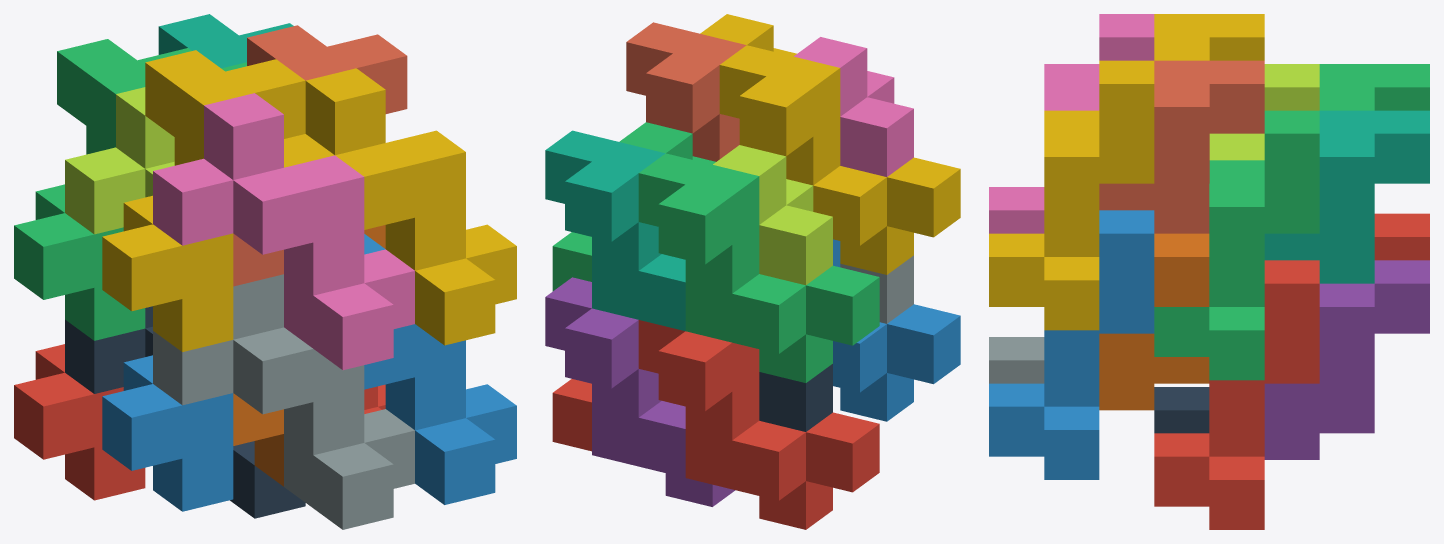
The model's file is tiling.obj.
3 renders of one model, left to right at view 1: azimuth 30°, elevation 25°; view 2: azimuth 150°, elevation 25°; view 3: azimuth 270°, elevation 25°, orthographic. The views are drawn at different scales.
Parts seen in each view (by area): view 1: copy_2_domain_4, copy_2_domain_2, copy_2_domain_8, copy_1_domain_4, copy_1_domain_3, copy_2_domain_6, copy_1_domain_2, copy_1_domain_1, copy_2_domain_3, copy_1_domain_8, copy_2_domain_1, copy_1_domain_7 (+1 smaller); view 2: copy_1_domain_3, copy_1_domain_1, copy_1_domain_4, copy_1_domain_7, copy_1_domain_5, copy_1_domain_8, copy_1_domain_2, copy_2_domain_4, copy_2_domain_3, copy_2_domain_1, copy_2_domain_7, copy_2_domain_5 (+2 smaller); view 3: copy_2_domain_8, copy_2_domain_7, copy_2_domain_5, copy_2_domain_6, copy_1_domain_5, copy_1_domain_8, copy_1_domain_7, copy_1_domain_6, copy_2_domain_4, copy_1_domain_3, copy_1_domain_4, copy_2_domain_3 (+3 smaller).
Boxes of the visible parts, bbox=[...] form: copy_2_domain_4: bbox=[153, 93, 414, 370]; copy_2_domain_2: bbox=[153, 274, 414, 529]; copy_2_domain_8: bbox=[284, 68, 516, 345]; copy_1_domain_4: bbox=[102, 50, 305, 351]; copy_1_domain_3: bbox=[14, 39, 191, 340]; copy_2_domain_6: bbox=[364, 234, 516, 504]; copy_1_domain_2: bbox=[102, 355, 233, 511]; copy_1_domain_1: bbox=[14, 344, 145, 500]; copy_2_domain_3: bbox=[65, 87, 174, 234]; copy_1_domain_8: bbox=[233, 25, 407, 286]; copy_2_domain_1: bbox=[65, 306, 305, 518]; copy_1_domain_7: bbox=[158, 14, 293, 68]; copy_1_domain_3: bbox=[638, 153, 879, 382]; copy_1_domain_1: bbox=[638, 320, 879, 529]; copy_1_domain_4: bbox=[719, 45, 960, 274]; copy_1_domain_7: bbox=[545, 130, 685, 331]; copy_1_domain_5: bbox=[545, 277, 735, 506]; copy_1_domain_8: bbox=[626, 22, 746, 161]; copy_1_domain_2: bbox=[833, 239, 960, 421]; copy_2_domain_4: bbox=[794, 37, 913, 176]; copy_2_domain_3: bbox=[713, 145, 832, 285]; copy_2_domain_1: bbox=[759, 364, 832, 431]; copy_2_domain_7: bbox=[552, 122, 715, 291]; copy_2_domain_5: bbox=[552, 379, 591, 451]; copy_2_domain_8: bbox=[989, 60, 1154, 330]; copy_2_domain_7: bbox=[1154, 110, 1319, 380]; copy_2_domain_5: bbox=[1154, 260, 1319, 529]; copy_2_domain_6: bbox=[989, 210, 1154, 479]; copy_1_domain_5: bbox=[1264, 260, 1429, 459]; copy_1_domain_8: bbox=[1099, 60, 1264, 233]; copy_1_domain_7: bbox=[1264, 110, 1429, 283]; copy_1_domain_6: bbox=[1099, 233, 1209, 410]; copy_2_domain_4: bbox=[989, 14, 1154, 233]; copy_1_domain_3: bbox=[1319, 64, 1429, 110]; copy_1_domain_4: bbox=[1154, 14, 1264, 60]; copy_2_domain_3: bbox=[1209, 64, 1319, 160].
Bounding box in the file's own units: 7 × 8 × 8.
